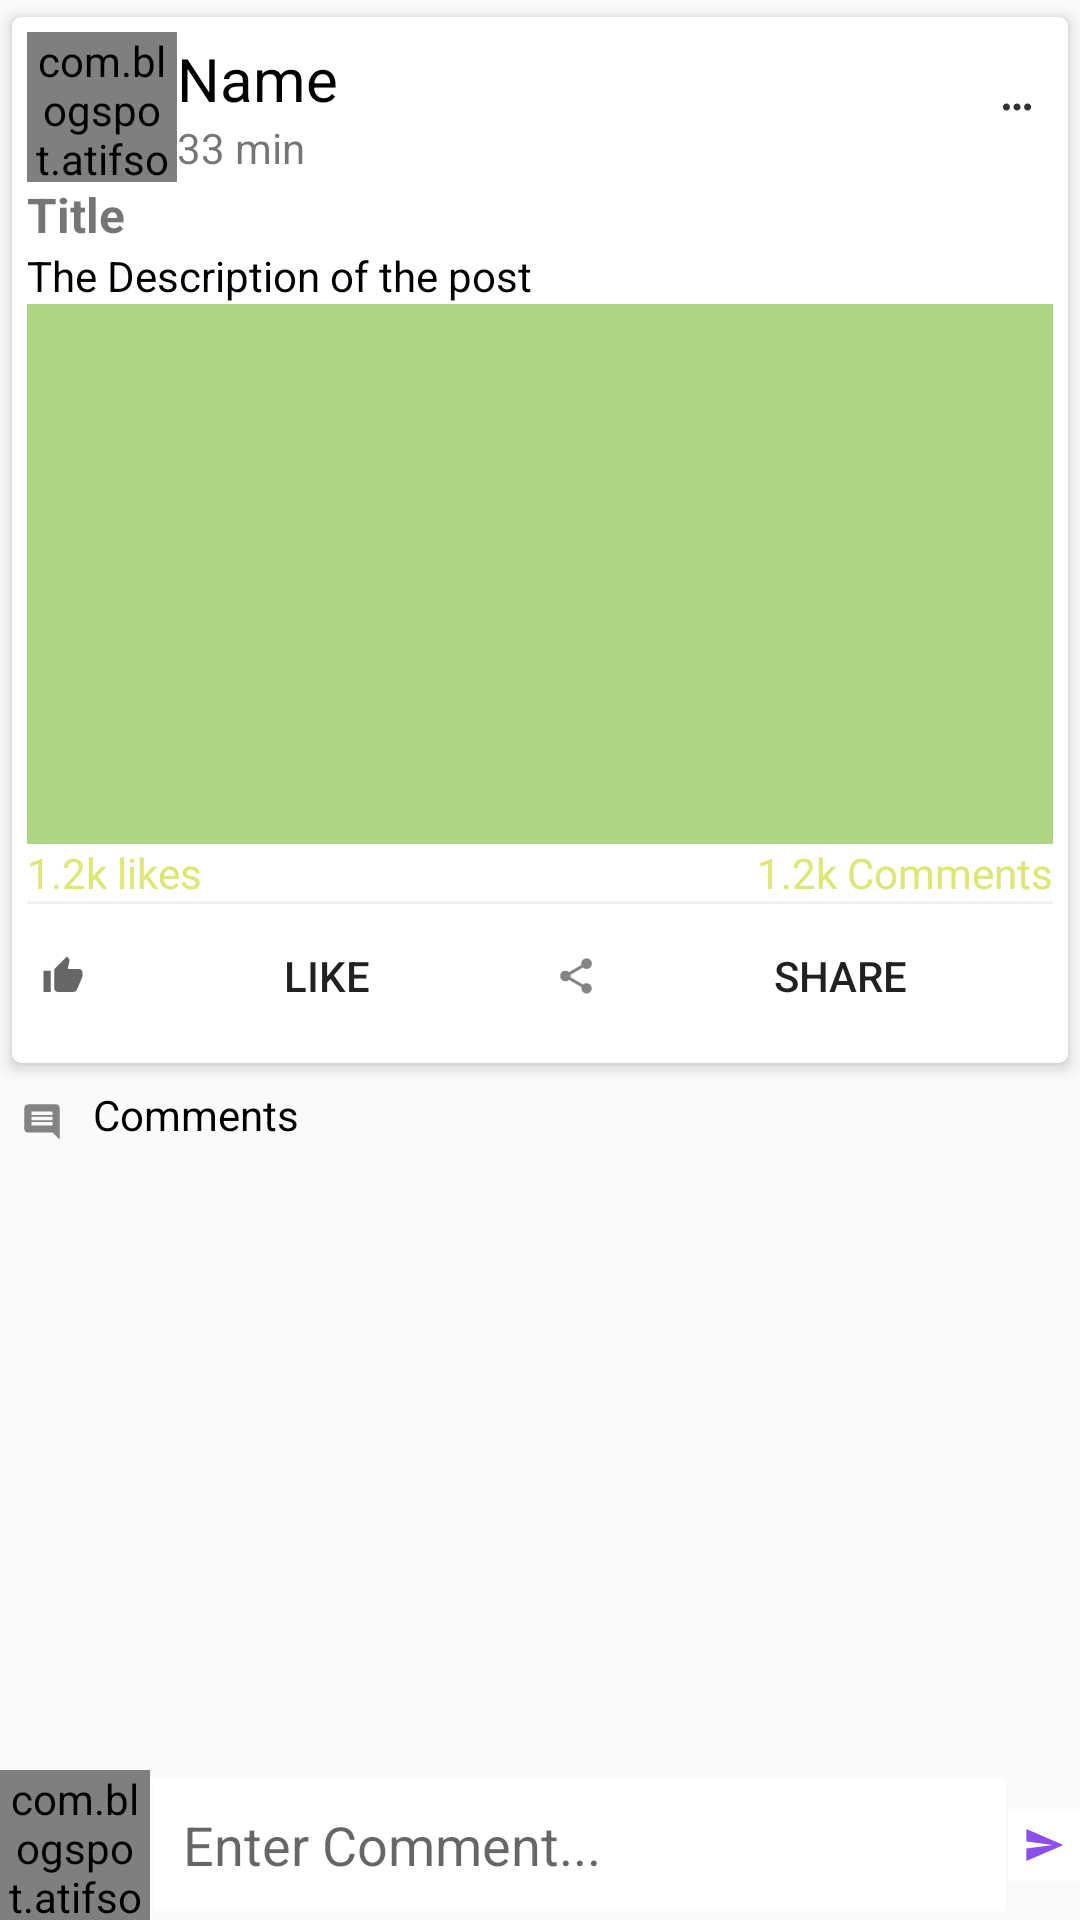

Screen size 1080×1920. Icon name, then its box in pixels as (x1, y1, x2, y2):
more: (1003, 103, 1031, 111)
send: (1026, 1829, 1063, 1861)
